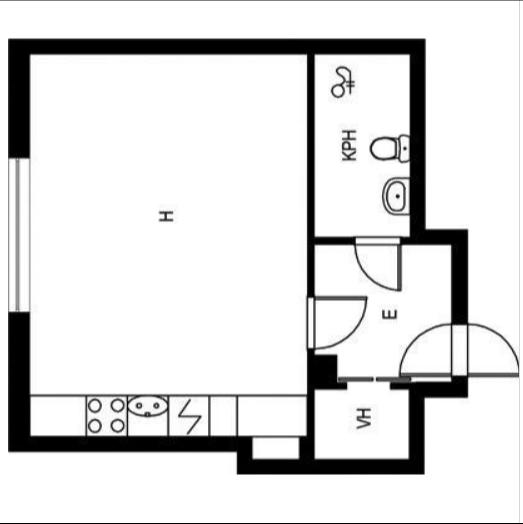bathroom: (312, 52, 410, 239)
door: (452, 320, 520, 378), (304, 294, 372, 352), (398, 322, 468, 378), (350, 234, 404, 296)
perimeter: (7, 36, 469, 473)
window: (6, 152, 34, 317)
